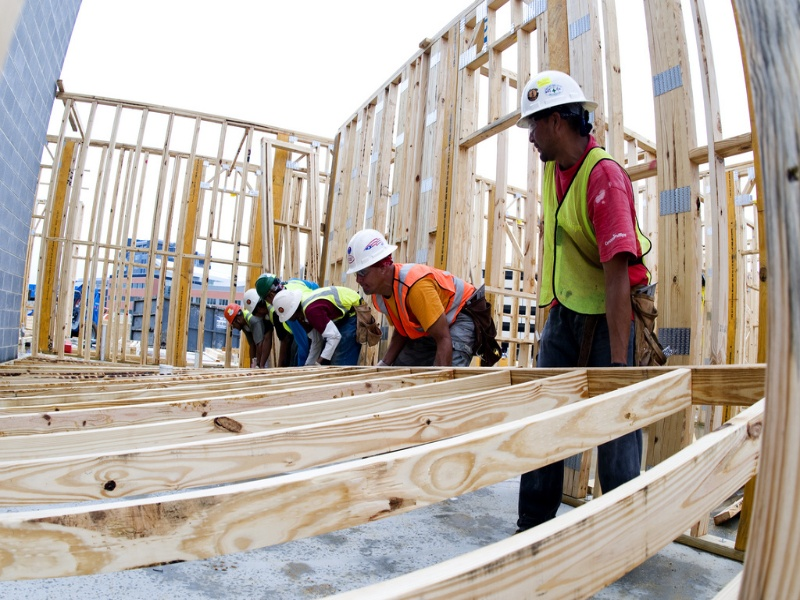helmet: (521, 71, 600, 116), (344, 231, 394, 264), (273, 291, 307, 312), (234, 292, 258, 305)
jacket: (540, 148, 622, 318), (380, 266, 473, 331), (311, 285, 374, 330)
